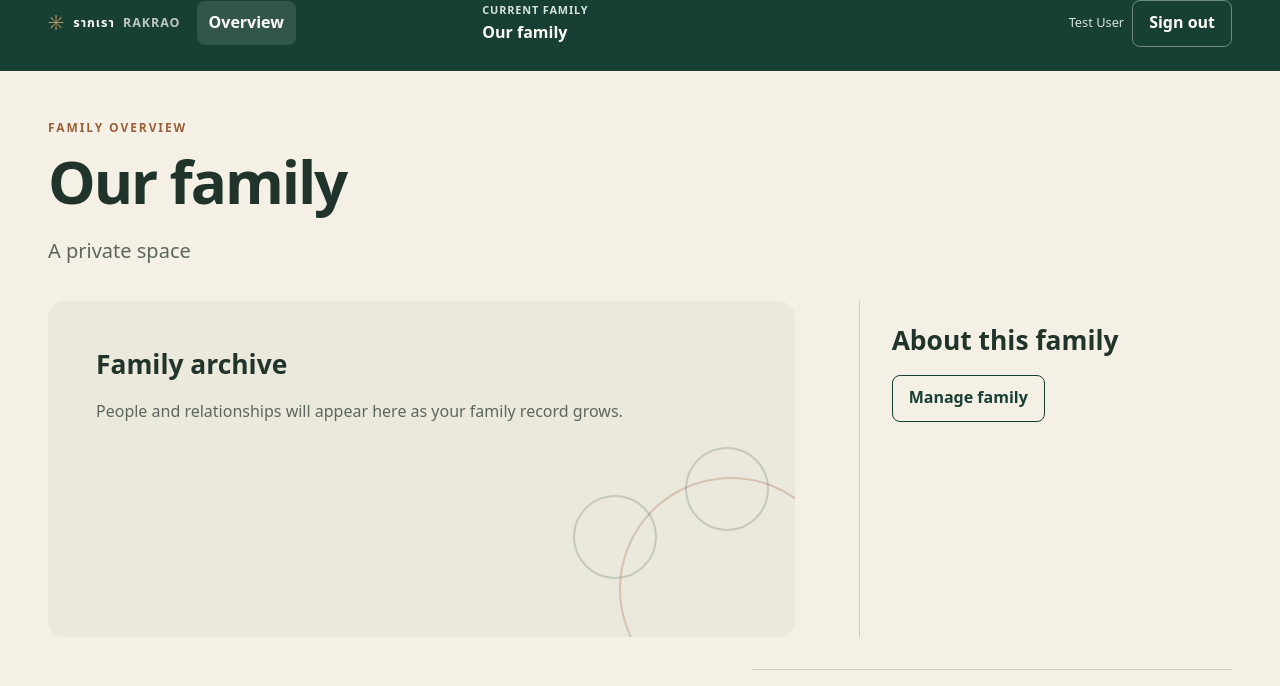
it: authentication shell › explains a stale family edit without showing a technical error
Click the button "Manage family".
click(968, 398)  # box [892,375,1045,422]
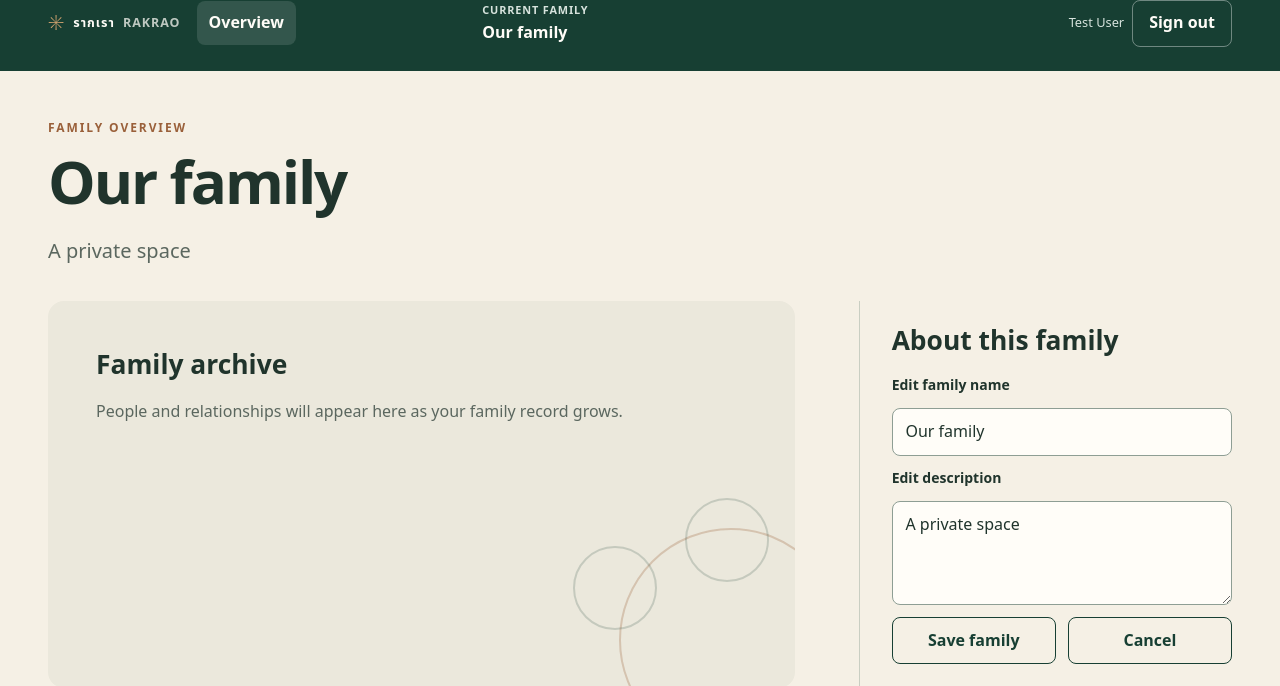
Click the button "Save family".
click(974, 641)  # box [892,617,1056,664]
(page scrolled)
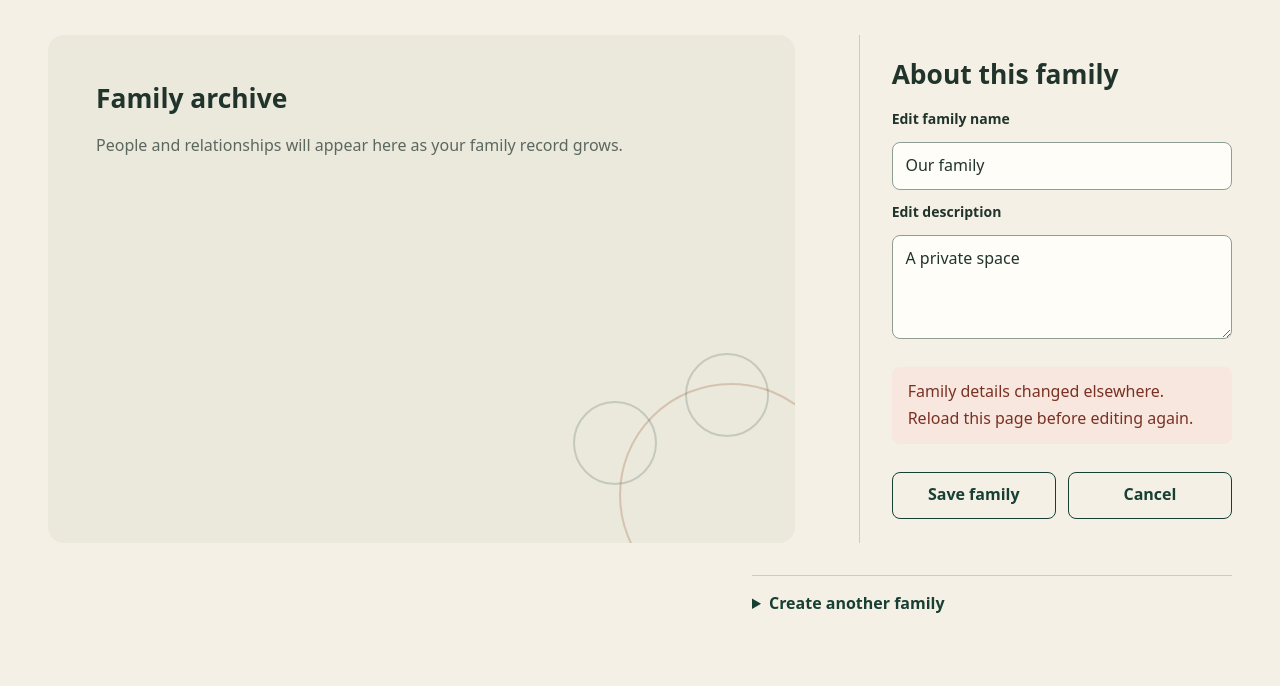
Check: the text "Family details changed elsewhere. Reload this page before editing again." is shown, box [892,367,1232,444]
